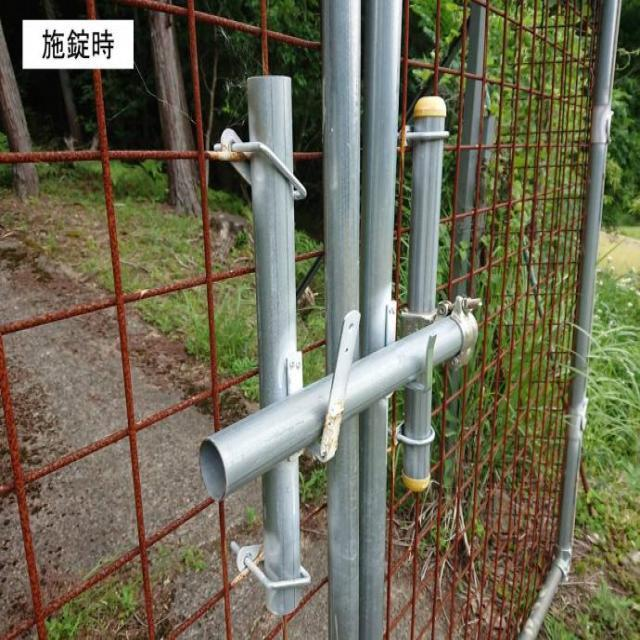pipe: (190, 430, 234, 508)
